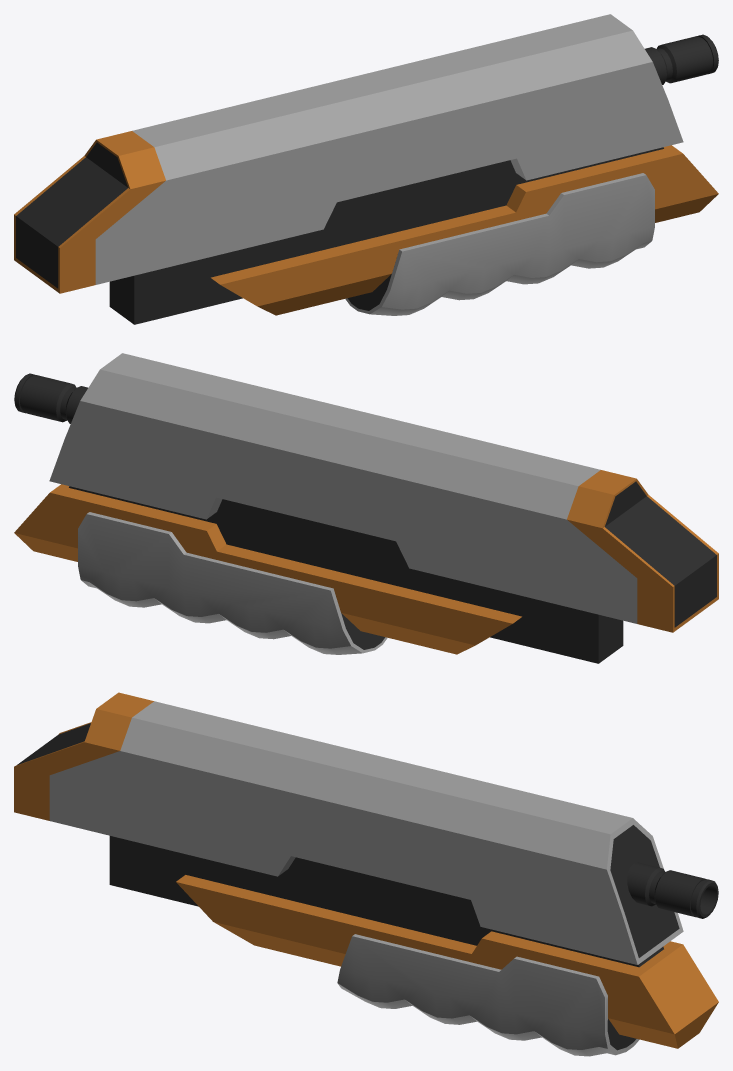
File: quaternius-modular-sci-fi-guns-body-ar-4.glb
3 views of the same model, one above another, from view 1: azimuth 30°, elevation 25°; view 2: azimuth 150°, elevation 25°; view 3: azimuth 330°, elevation 25° (orthographic).
Parts seen in each view (by area): view 1: Body_AR4; view 2: Body_AR4; view 3: Body_AR4.
Boxes of the visible parts, bbox=[...] form: Body_AR4: bbox=[14, 14, 718, 324]; Body_AR4: bbox=[14, 353, 718, 663]; Body_AR4: bbox=[14, 692, 718, 1056].
Bounding box in the file's own units: 0.9739 × 0.3202 × 0.1258.
